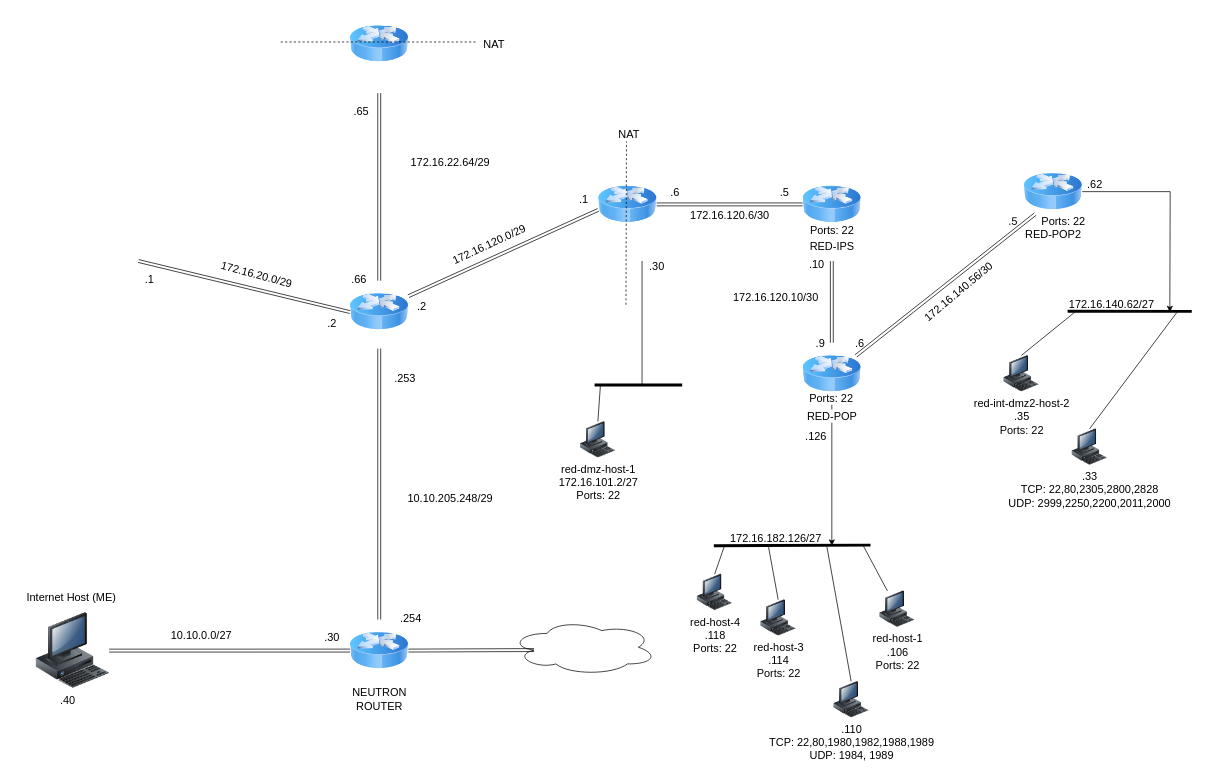
Some shapes in this 1206 by 775 pixel diagram are drawn without their labels. The shapes that lost their labels are listed below. From the top down, each one's centre as x and y in pixels, then its label:
At pixel 379 43: "INFRA2-Router".
At pixel 627 204: "RED_SCR-Router".
At pixel 379 311: "INFRA-Router".
At pixel 583 647: "Public Network".
